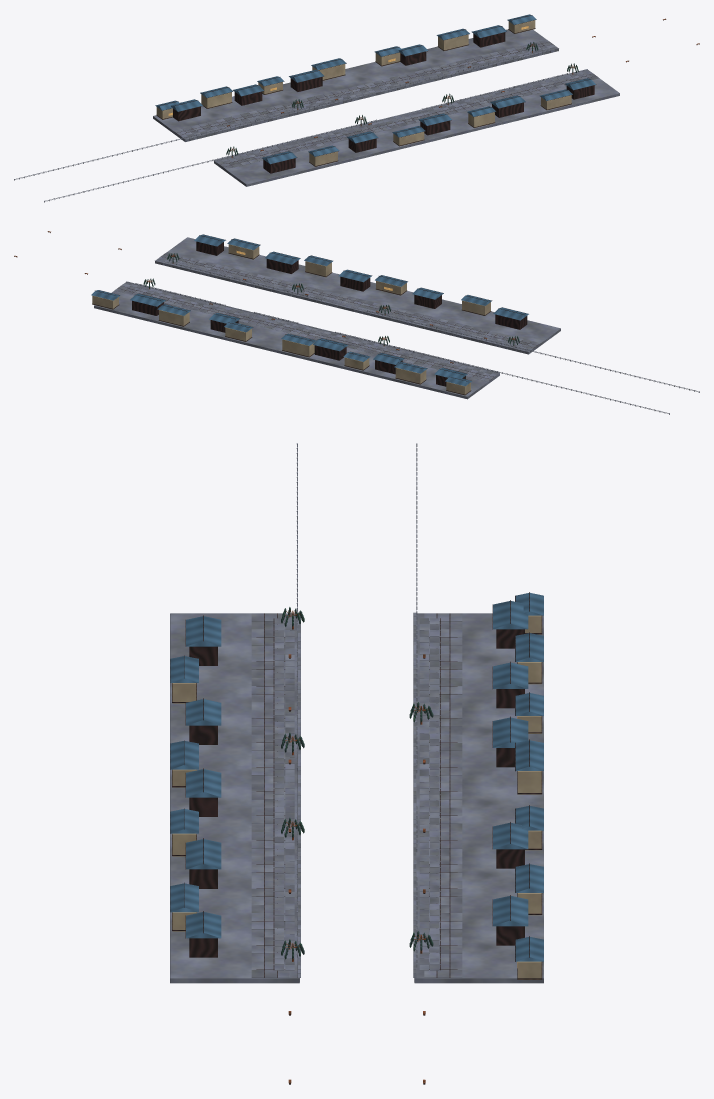
Rendered from model-riverbanks.glb.
The picture shows the model from 3 angles, top to bottom: view 1: azimuth 30°, elevation 25°; view 2: azimuth 150°, elevation 25°; view 3: azimuth 270°, elevation 25°; orthographic projection. The views are drawn at different scales.
Parts seen in each view (by area): view 1: model-riverbanks; view 2: model-riverbanks; view 3: model-riverbanks.
Part boxes in pixels (x1=…): model-riverbanks: x1=14, y1=14, x2=699, y2=202; model-riverbanks: x1=14, y1=231, x2=699, y2=414; model-riverbanks: x1=170, y1=443, x2=543, y2=1084.
Bounding box in the file's own units: 315 × 7.82 × 78.05.
Materials: 7 (7 with a texture image).
